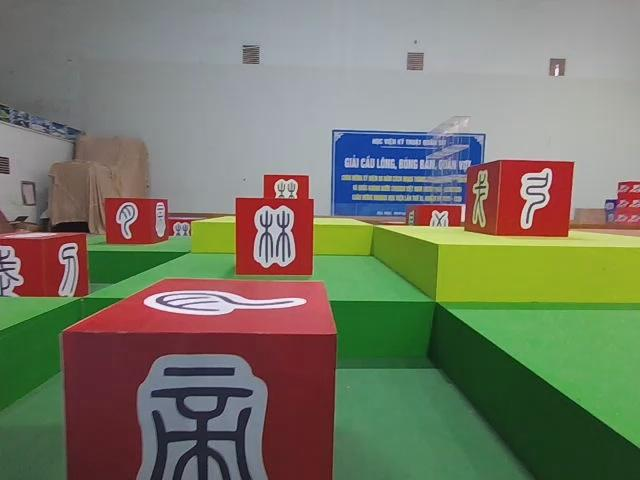R2 Fake: (55, 274, 340, 480), (465, 157, 577, 239), (0, 229, 87, 307), (232, 196, 315, 277), (102, 194, 169, 246)
